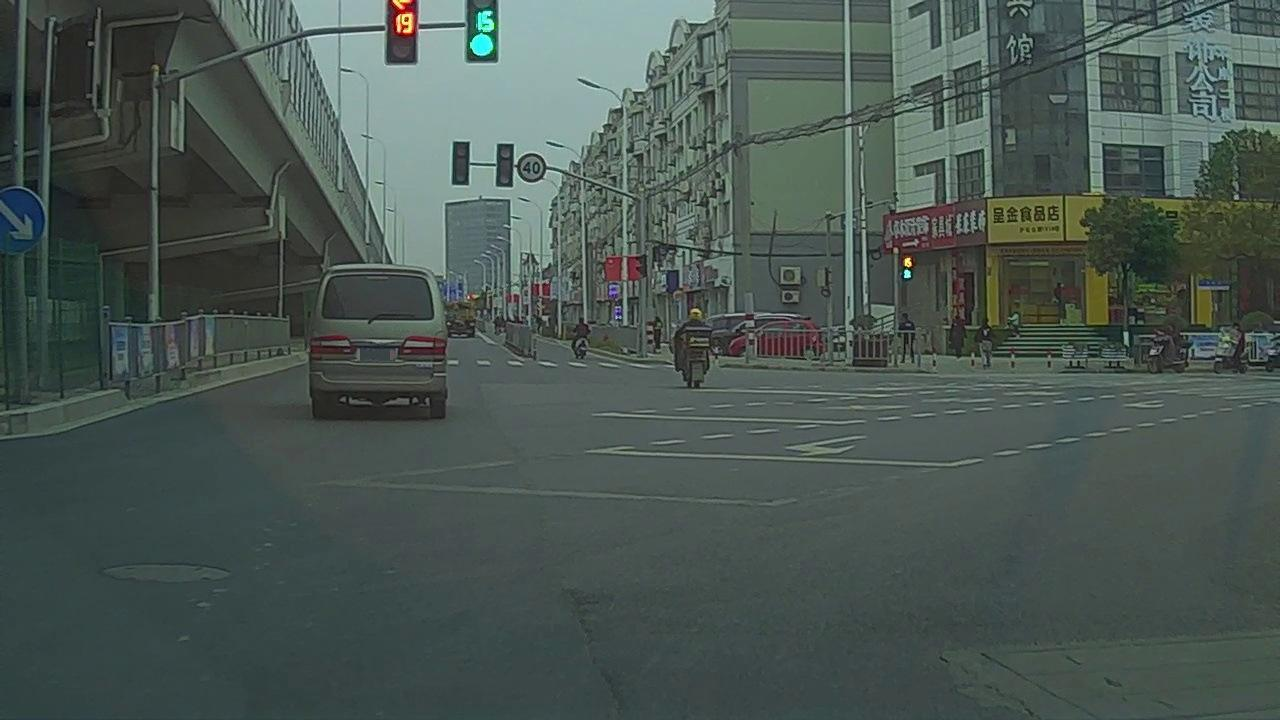traffic_light: (467, 1, 499, 64), (388, 2, 416, 62), (453, 142, 469, 185), (498, 144, 513, 185)
